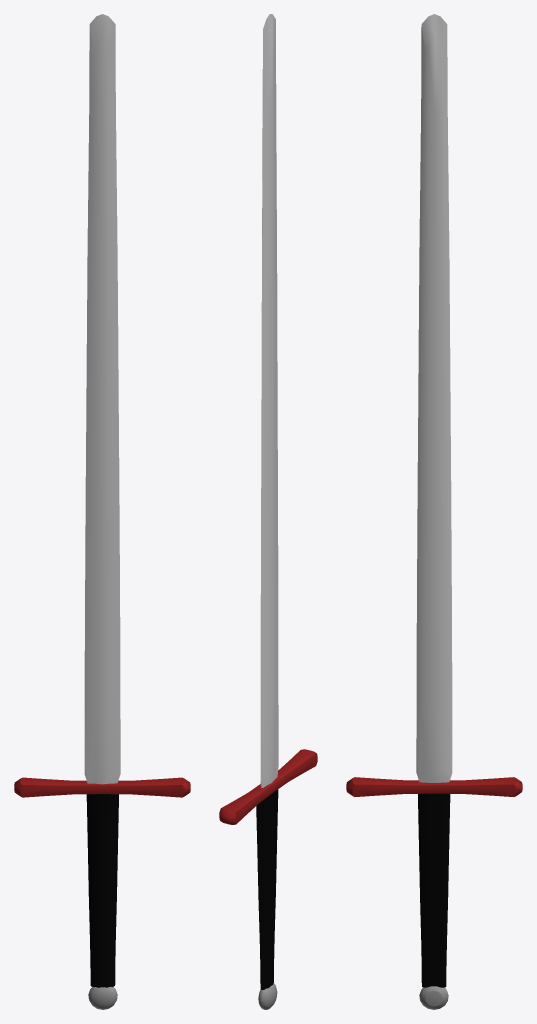
The model's file is sword_double-edged.FBX.
3 renders of one model, left to right at view 1: azimuth 90°, elevation 25°; view 2: azimuth 150°, elevation 25°; view 3: azimuth 270°, elevation 25°, orthographic.
Visible parts, largest first — view 1: sword_double-edged; view 2: sword_double-edged; view 3: sword_double-edged.
Boxes of the visible parts, left/top/right/bottom form: sword_double-edged: left=14, top=14, right=190, bottom=1009; sword_double-edged: left=219, top=14, right=317, bottom=1009; sword_double-edged: left=346, top=14, right=522, bottom=1009.
Size of the model in its own units: 0.7279 by 42.7 by 6.85.
